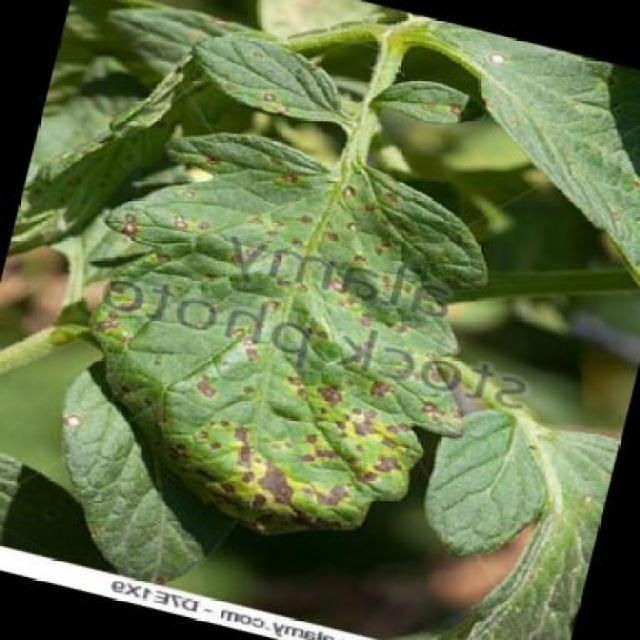Septoria leaf spot: (16, 94, 519, 580), (169, 12, 369, 150), (361, 58, 508, 151)
